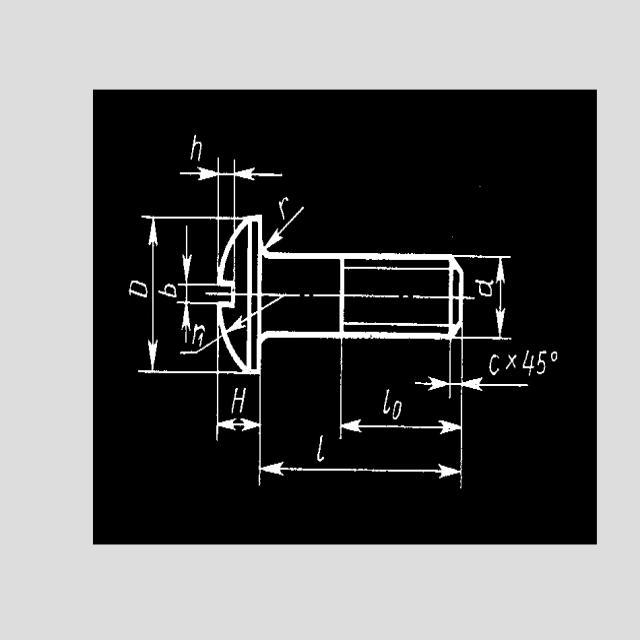marking_line: (258, 376, 465, 487), (338, 340, 464, 441), (140, 214, 217, 378), (413, 341, 529, 400), (178, 215, 218, 376), (180, 162, 283, 216), (464, 254, 511, 341), (216, 375, 262, 442), (266, 207, 304, 248)
numeric: (472, 277, 494, 298), (230, 387, 246, 415), (188, 134, 205, 160), (127, 280, 151, 296), (535, 349, 549, 376), (522, 348, 535, 376), (190, 323, 207, 343), (157, 282, 178, 298), (278, 195, 290, 221), (382, 388, 393, 415), (490, 353, 501, 377), (316, 432, 324, 464), (392, 400, 402, 421), (197, 334, 206, 347)
special_symbol: (505, 352, 517, 372), (551, 350, 559, 362)
